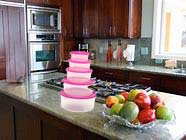copymove: (113, 37, 122, 61)
removal: (6, 40, 28, 78)
spliced: (61, 50, 95, 109)
